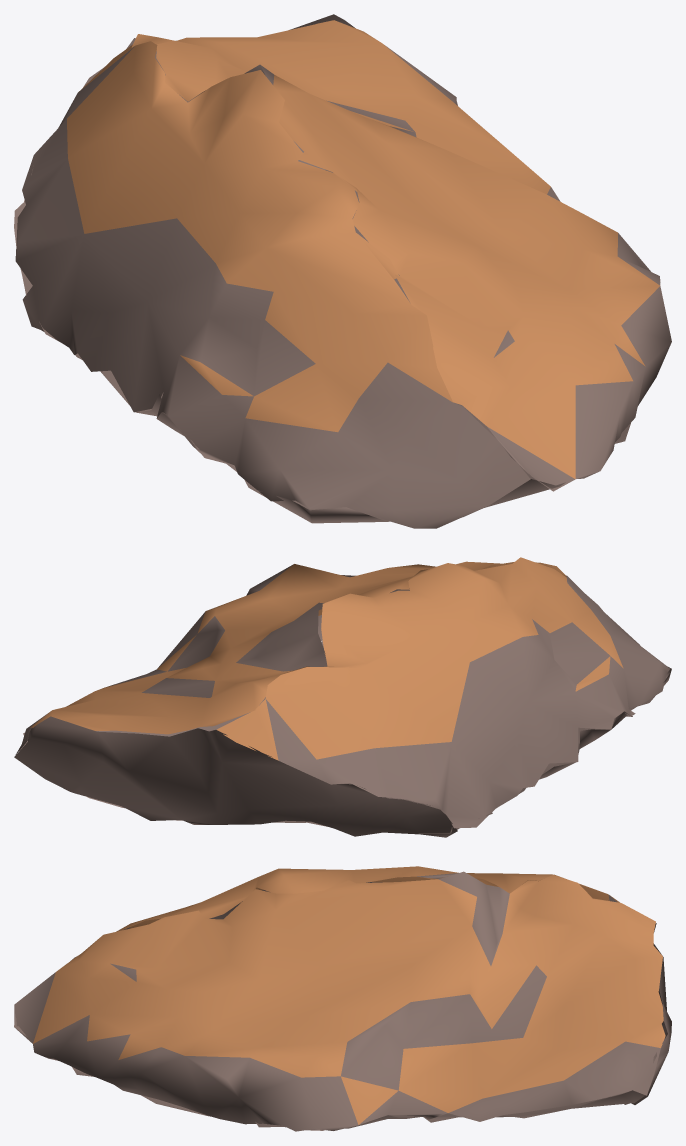
Rendered from rock_small_b.glb.
3 views of the same model, one above another, from view 1: azimuth 30°, elevation 25°; view 2: azimuth 150°, elevation 25°; view 3: azimuth 270°, elevation 25° (orthographic). The views are drawn at different scales.
Visible parts, largest first — view 1: rock_small_b-convcol; view 2: rock_small_b-convcol; view 3: rock_small_b-convcol.
Boxes of the visible parts, bbox=[...] form: rock_small_b-convcol: bbox=[14, 14, 671, 528]; rock_small_b-convcol: bbox=[14, 557, 671, 837]; rock_small_b-convcol: bbox=[14, 866, 671, 1131].
Bounding box in the file's own units: 0.2772 × 0.126 × 0.3978.
